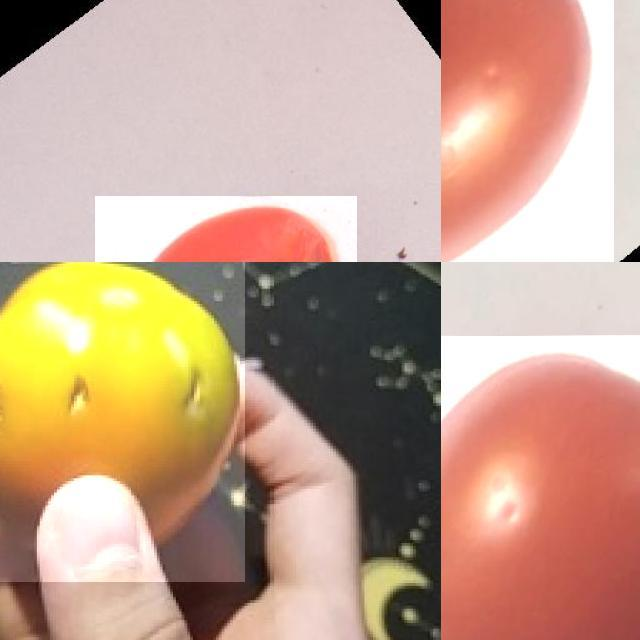Fresh Tomato: (441, 335, 640, 640), (441, 0, 613, 262)
Rotten Tomato: (0, 262, 244, 581), (95, 196, 356, 262)
